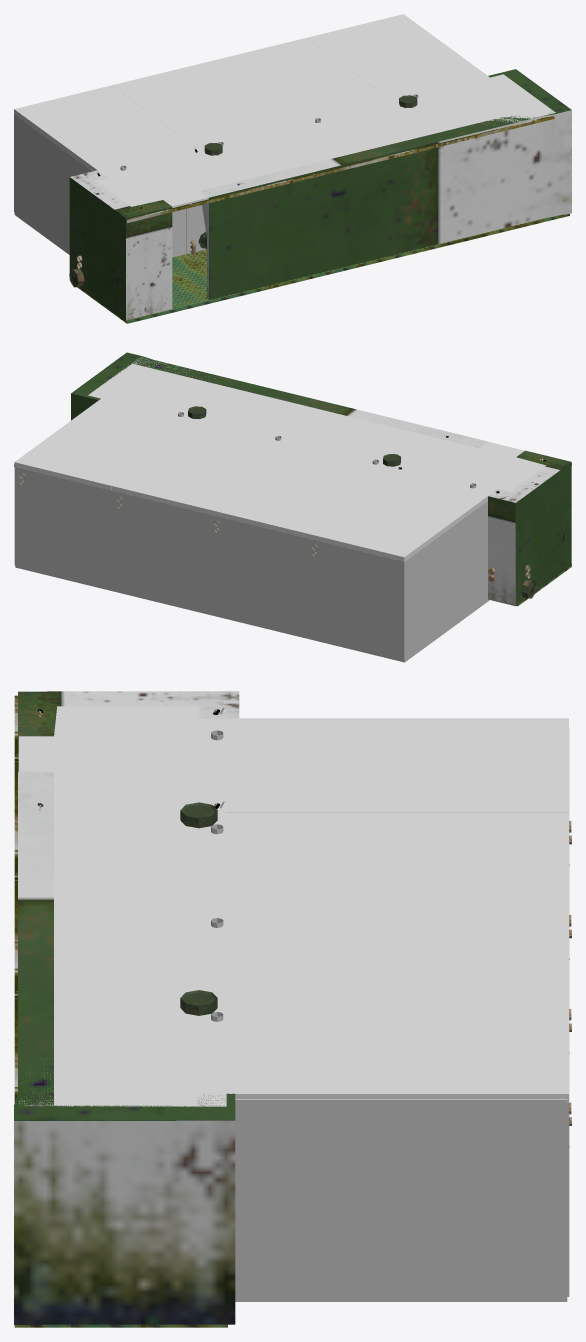
File: cabins.fbx
The picture shows the model from 3 angles, top to bottom: view 1: azimuth 30°, elevation 25°; view 2: azimuth 150°, elevation 25°; view 3: azimuth 270°, elevation 25°; orthographic projection. The views are drawn at different scales.
Parts seen in each view (by area): view 1: Cube.015, Cube.017, Cube.016, Cube.008, Cube.032, Cube.050, Cube.052, murs, sol, sol.005, door; view 2: murs, Cube.017, murs.002, Cube.016, murs.003, murs.001, Cube.008, Cube.050, Cube.052, Cube.032, Cube.015, sol.001; view 3: Cube.017, murs.002, Cube.015, Cube.052, Cube.008, Cube.032, Cube.050, Cube.016, sol.009, sol.004, sol.005, Tuyeau1.003 (+2 smaller).
Boxes of the visible parts, x1,y1,x2,y2 form: Cube.015: (200, 69, 571, 299); Cube.017: (96, 74, 555, 207); Cube.016: (69, 170, 172, 320); Cube.008: (14, 85, 197, 172); Cube.032: (209, 38, 392, 124); Cube.050: (112, 61, 294, 148); Cube.052: (306, 14, 489, 100); murs: (14, 114, 197, 254); sol: (77, 214, 569, 323); sol.005: (126, 116, 554, 222); door: (172, 209, 185, 257); murs: (307, 501, 487, 660); Cube.017: (88, 357, 545, 493); murs.002: (14, 467, 112, 588); Cube.016: (488, 450, 571, 606); murs.003: (112, 490, 209, 612); murs.001: (209, 514, 306, 636); Cube.008: (307, 470, 490, 561); Cube.050: (209, 446, 392, 537); Cube.052: (14, 398, 198, 490); Cube.032: (112, 422, 295, 514); Cube.015: (71, 352, 487, 448); sol.001: (307, 599, 489, 662); Cube.017: (18, 706, 226, 1106); murs.002: (235, 1009, 569, 1296); Cube.015: (14, 771, 235, 1324); Cube.052: (226, 1000, 568, 1103); Cube.008: (226, 718, 568, 812); Cube.032: (226, 906, 568, 999); Cube.050: (226, 812, 568, 905); Cube.016: (18, 691, 239, 739); sol.009: (235, 1099, 567, 1105); sol.004: (235, 1297, 567, 1301); sol.005: (14, 695, 18, 1102); Tuyeau1.003: (180, 990, 217, 1015).
Size of the model in its own units: 1201 by 298 by 650.
